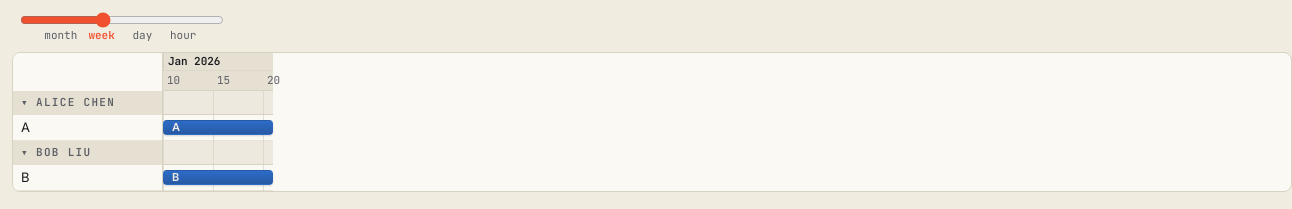
Scenario: collapsible groups (#690 P4) › hides a group's rows when its header is clicked
What coordinates should you click on to do the following:
click the button "▾ Alice Chen"
I would click on:
 (88, 103)
Its box is [13,91,162,115].
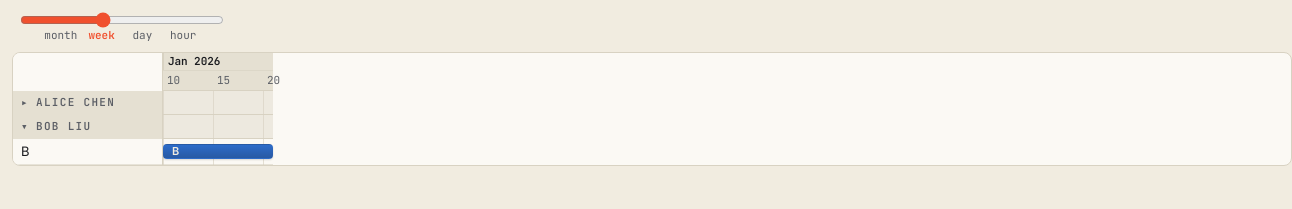
Expected: the element with test id "bar-2" is shown, [163,144,273,159]
Result: the element with test id "bar-1" is gone
